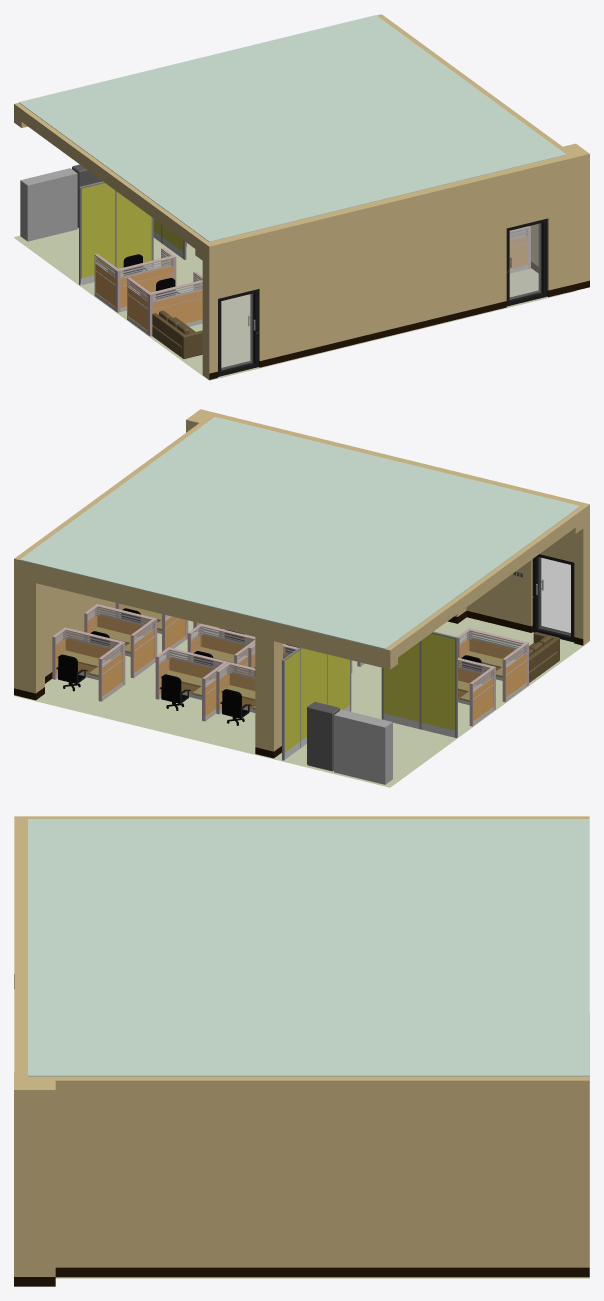
File: CCIS_DCS_v1.glb
The picture shows the model from 3 angles, top to bottom: view 1: azimuth 30°, elevation 25°; view 2: azimuth 150°, elevation 25°; view 3: azimuth 270°, elevation 25°; orthographic projection. The views are drawn at different scales.
Visible parts, largest first — view 1: Cube.034; view 2: Cube.034; view 3: Cube.034.
Boxes of the visible parts, x1,y1,x2,y2 form: Cube.034: (14,14,589,380); Cube.034: (14,409,589,787); Cube.034: (14,816,589,1286).
Size of the model in its own units: 4.66 by 1.58 by 4.14.
